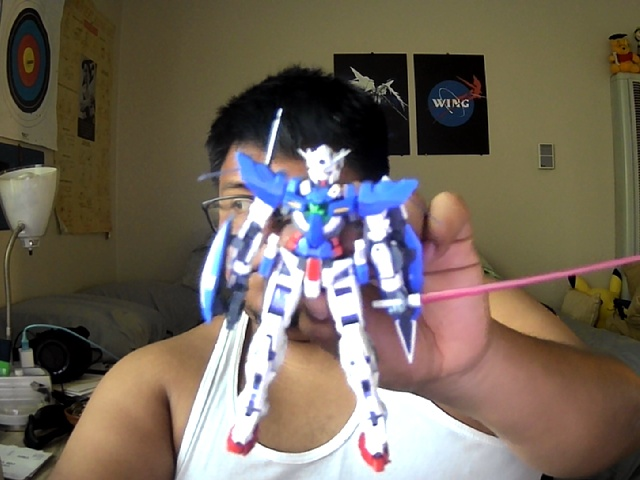Exia: (199, 107, 640, 472)
